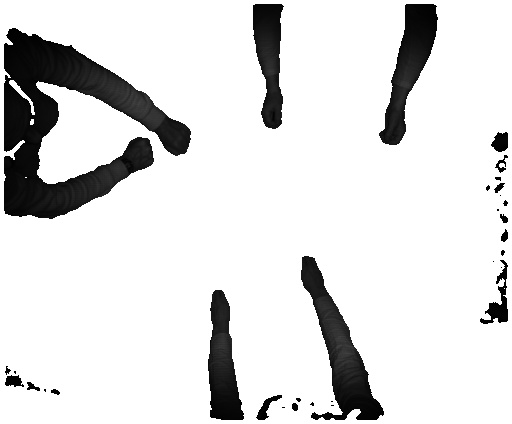fist: (159, 121, 191, 166), (256, 94, 287, 135), (376, 113, 407, 151), (123, 136, 157, 170)
hand: (296, 256, 332, 296), (208, 288, 231, 328)
